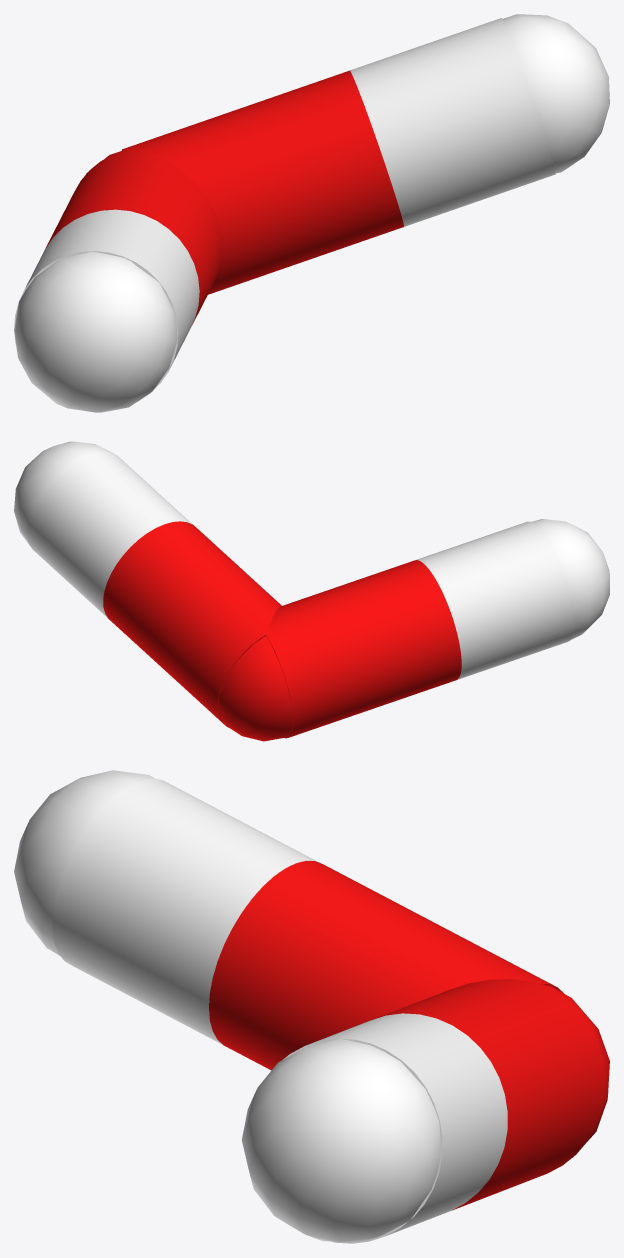
File: WATER.dae
3 views of the same model, one above another, from view 1: azimuth 30°, elevation 25°; view 2: azimuth 150°, elevation 25°; view 3: azimuth 270°, elevation 25° (orthographic). The views are drawn at different scales.
Parts seen in each view (by area): view 1: subnode_5, subnode_6, subnode_1, subnode_2, subnode_3, subnode_4; view 2: subnode_3, subnode_5, subnode_4, subnode_6, subnode_0, subnode_1, subnode_2; view 3: subnode_4, subnode_3, subnode_2, subnode_5, subnode_6, subnode_1, subnode_0.
Part boxes in pixels (<box>): subnode_5: <box>122,70,403,294</box>; subnode_6: <box>350,18,555,226</box>; subnode_1: <box>14,252,177,412</box>; subnode_2: <box>502,14,609,173</box>; subnode_3: <box>46,149,223,324</box>; subnode_4: <box>14,209,199,401</box>; subnode_3: <box>264,560,461,738</box>; subnode_5: <box>103,521,281,727</box>; subnode_4: <box>415,521,573,679</box>; subnode_6: <box>27,451,195,617</box>; subnode_0: <box>218,636,293,741</box>; subnode_1: <box>531,519,609,639</box>; subnode_2: <box>14,441,113,550</box>; subnode_4: <box>52,778,319,1044</box>; subnode_3: <box>209,860,563,1070</box>; subnode_2: <box>242,1038,440,1242</box>; subnode_5: <box>372,979,605,1210</box>; subnode_6: <box>283,1013,507,1243</box>; subnode_1: <box>14,770,155,955</box>; subnode_0: <box>546,985,609,1157</box>.
Bounding box in the file's own units: 1.85 × 0.6702 × 1.15.
